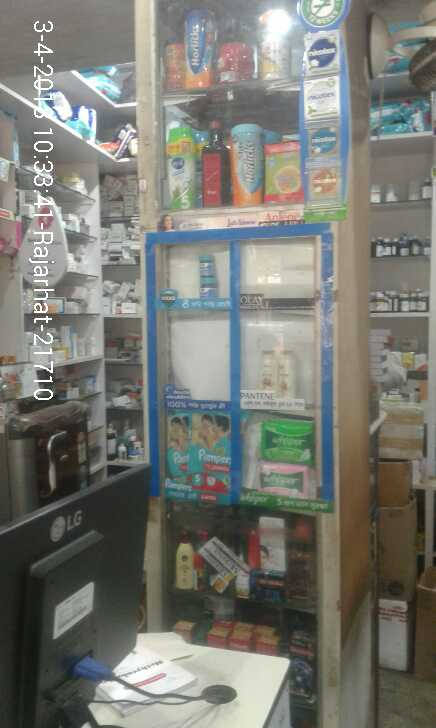vicks: (199, 251, 219, 297)
